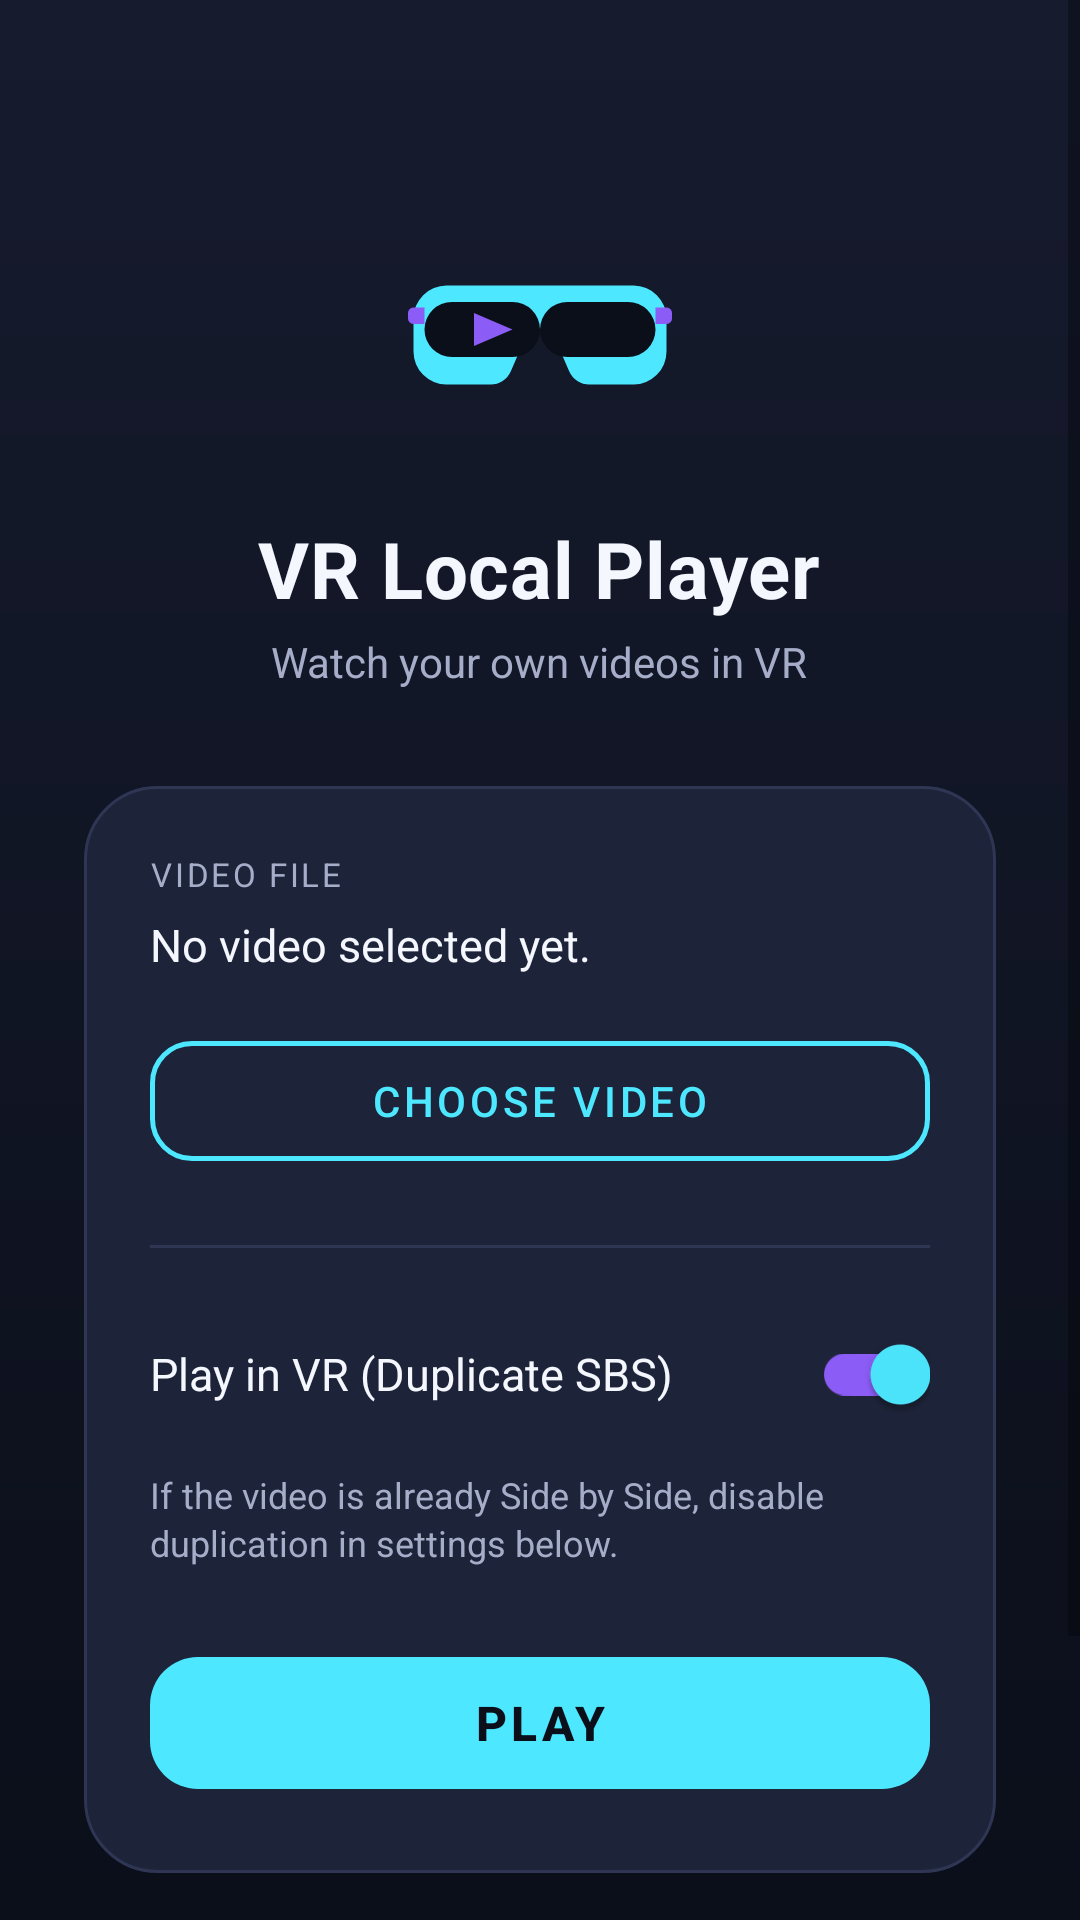

Screen size 1080×1920. Icon name, then its box in pixels as detection(x1, y1, x2, y2):
headset: detection(408, 285, 672, 385)
